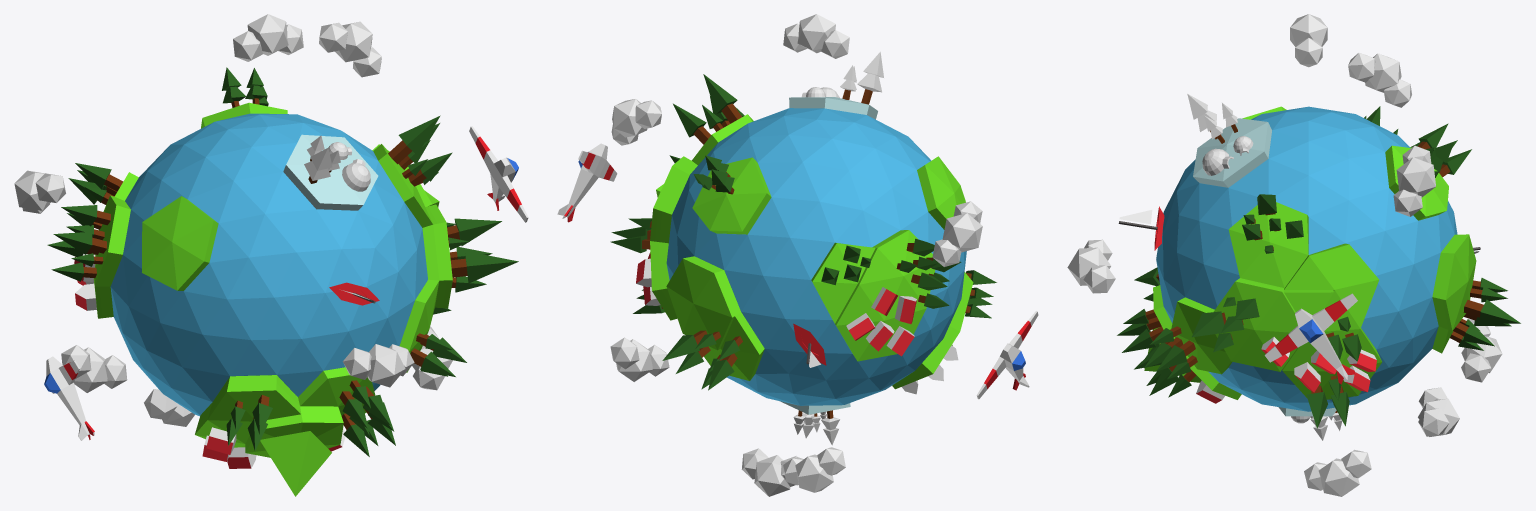
Rendered from globe.gltf.
3 views of the same model, side by side, from view 1: azimuth 30°, elevation 25°; view 2: azimuth 150°, elevation 25°; view 3: azimuth 270°, elevation 25° (orthographic). The views are drawn at different scales.
Parts seen in each view (by area): view 1: Icosphere.001, Icosphere, Plane.049, Icosphere.002, Icosphere.003, Icosphere.007, Icosphere.004, Plane.092, Icosphere.006, Plane.003, Plane.010, Icosphere.008 (+11 smaller); view 2: Icosphere.001, Icosphere, Icosphere.006, Icosphere.002, Icosphere.004, Icosphere.005, Icosphere.003, Plane.003, Icosphere.008, Plane.092, Plane.004, Plane.090 (+4 smaller); view 3: Icosphere.001, Icosphere, Plane.003, Icosphere.003, Icosphere.006, Icosphere.005, Icosphere.007, Icosphere.002, Icosphere.008, Icosphere.004, Plane.084, Plane.091 (+6 smaller).
Part boxes in pixels (x1,y1,x2,y2): Icosphere.001: [110, 113, 427, 416]; Icosphere: [93, 102, 452, 457]; Plane.049: [260, 431, 331, 496]; Icosphere.002: [233, 14, 303, 61]; Icosphere.003: [319, 21, 381, 77]; Icosphere.007: [343, 344, 414, 387]; Icosphere.004: [61, 345, 127, 392]; Plane.092: [44, 356, 94, 440]; Icosphere.006: [14, 170, 65, 213]; Plane.003: [469, 126, 528, 222]; Plane.010: [450, 251, 518, 283]; Icosphere.008: [144, 389, 194, 426]; Icosphere.001: [666, 108, 966, 405]; Icosphere: [650, 97, 973, 414]; Icosphere.006: [932, 201, 982, 266]; Icosphere.002: [783, 14, 849, 58]; Icosphere.004: [783, 447, 845, 492]; Icosphere.005: [610, 337, 669, 381]; Icosphere.003: [611, 99, 661, 145]; Plane.003: [557, 143, 617, 222]; Icosphere.008: [741, 448, 797, 496]; Plane.092: [976, 311, 1038, 399]; Plane.004: [703, 74, 741, 123]; Plane.090: [793, 323, 826, 367]; Icosphere.001: [1156, 106, 1457, 411]; Icosphere: [1153, 106, 1476, 416]; Plane.003: [1264, 293, 1357, 384]; Icosphere.003: [1393, 145, 1435, 216]; Icosphere.006: [1348, 52, 1411, 107]; Icosphere.005: [1304, 449, 1371, 496]; Icosphere.007: [1067, 239, 1115, 293]; Icosphere.002: [1290, 14, 1327, 67]; Icosphere.008: [1418, 387, 1459, 436]; Icosphere.004: [1461, 319, 1502, 382]; Plane.084: [1463, 299, 1520, 323]; Plane.091: [1118, 206, 1164, 250].
Bounding box in the file's own units: 3.46 × 3.14 × 3.
